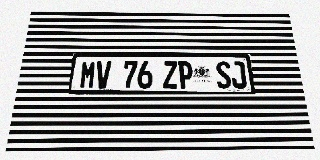6: (137, 61, 152, 89)
7: (122, 61, 138, 89)
J: (230, 61, 247, 89)
M: (79, 61, 96, 89)
P: (178, 61, 193, 89)
S: (215, 61, 232, 89)
V: (95, 61, 112, 89)
Z: (163, 61, 178, 89)
